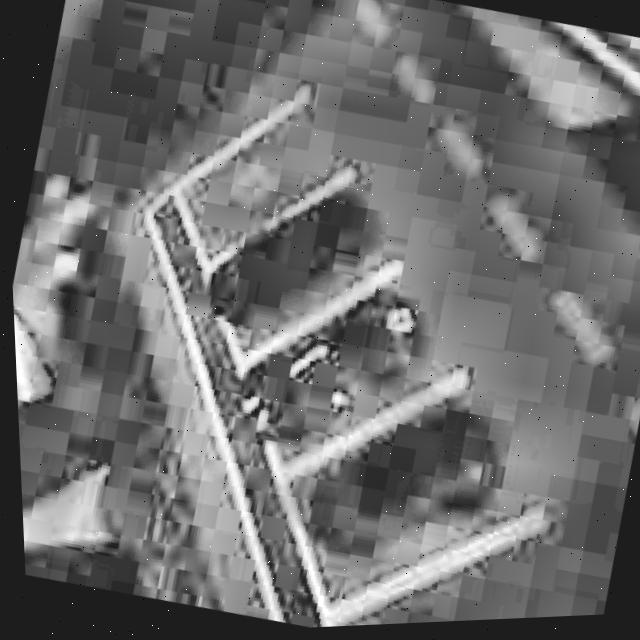car: (272, 372, 518, 599), (216, 256, 439, 475), (178, 163, 392, 365)
